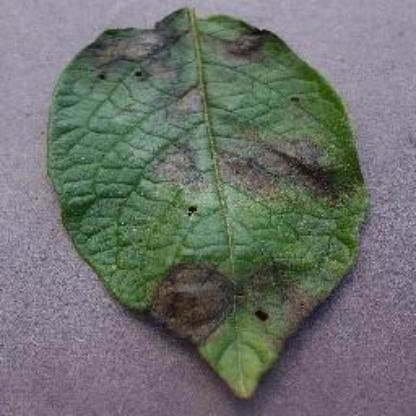Late-Blight: (36, 9, 376, 393)
